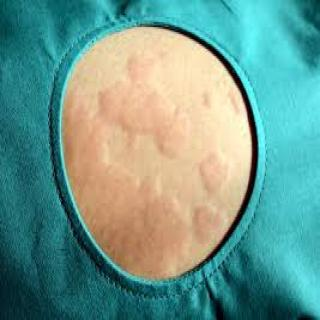urticaria: (77, 53, 224, 241)
